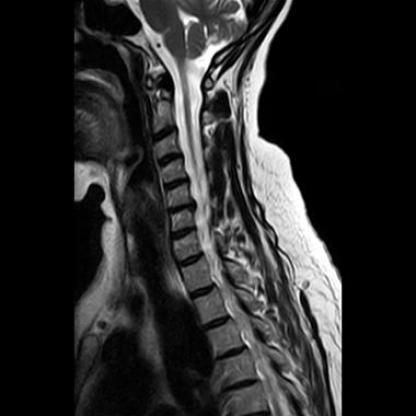Annular Disc Relaxationrotation: (161, 177, 190, 192)
Disc Bulgerotation: (166, 200, 198, 216)
Osteophytesrotation: (166, 199, 198, 215)
